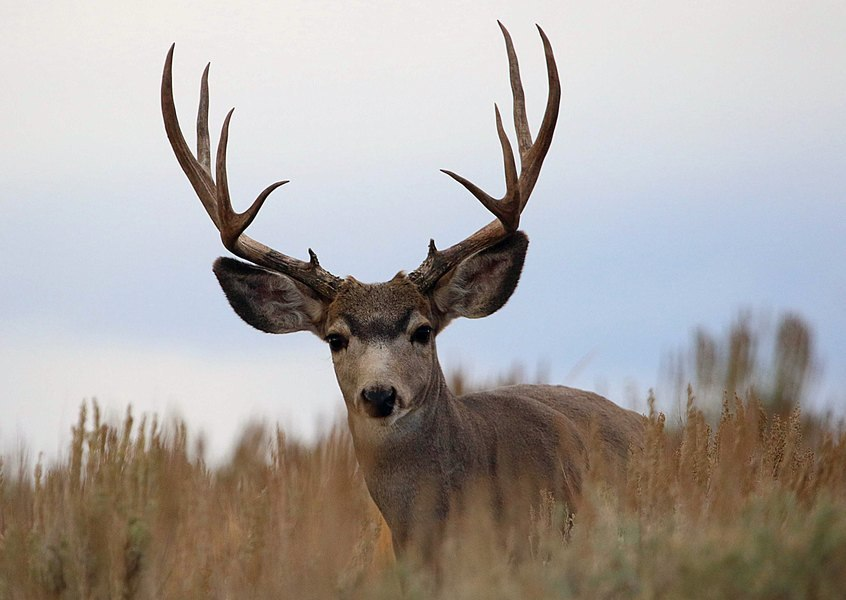Deer: (159, 15, 703, 584)
